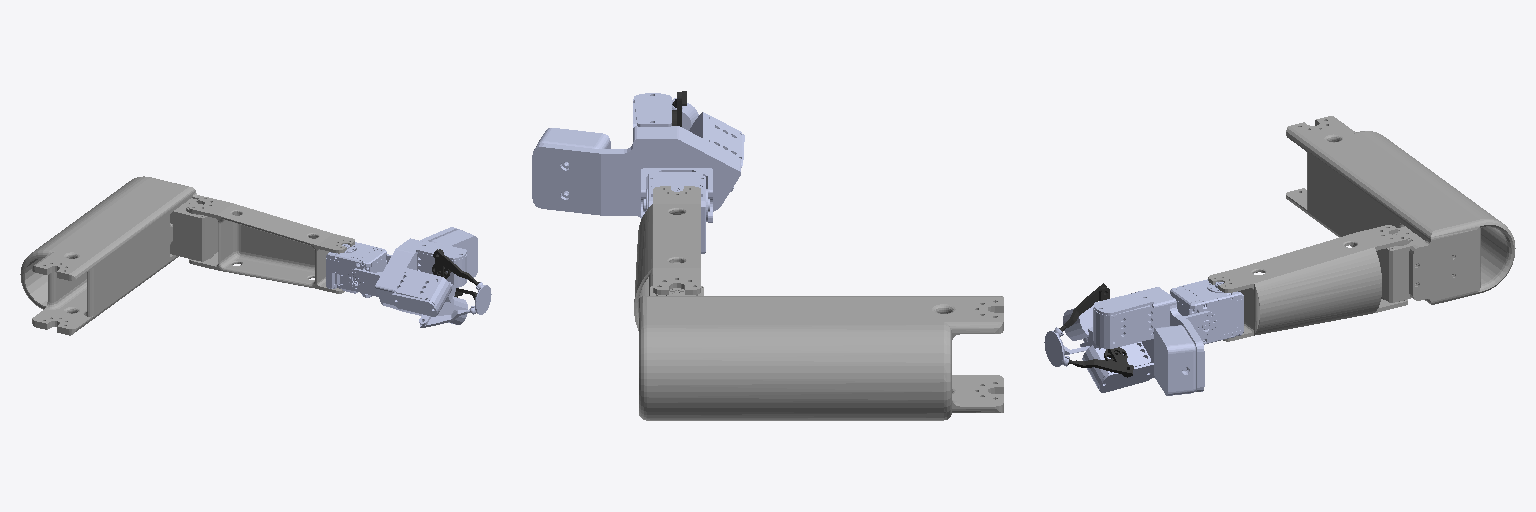
URDF robot description (poll_arm_left):
<?xml version="1.0" encoding="utf-8"?>
<!-- This URDF was automatically created by SolidWorks to URDF Exporter! Originally created by [author] ([email redacted]) 
     Commit Version: 1.6.0-4-g7f85cfe  Build Version: 1.6.7995.38578
     For more information, please see http://wiki.ros.org/sw_urdf_exporter -->
<robot
  name="poll_arm_left">
  <link
    name="base">
    <inertial>
      <origin xyz="0 0 0" rpy="0 0 0"/>
      <mass value=".0001"/>
      <inertia
        ixx="0.0001" ixy="0.0001" ixz="0.0001"
        iyy="0.0001" iyz="0.0001"
        izz="0.0001"/>
    </inertial>
  </link>
  <link
    name="box">
    <inertial>
      <origin
        xyz="-0.0294836466854796 0.00650699178978326 0.044874078657663"
        rpy="0 0 0" />
      <mass
        value="1.25224595398726" />
      <inertia
        ixx="0.00206596064394956"
        ixy="-0.000334896166615364"
        ixz="0.000136948453654299"
        iyy="0.0035115970252851"
        iyz="-4.17254634185765E-05"
        izz="0.00431158338218049" />
    </inertial>
    <visual>
      <origin
        xyz="0 0 0"
        rpy="0 0 0" />
      <geometry>
        <mesh
          filename="package://poll_arm_left/meshes/box.STL" />
      </geometry>
      <material
        name="">
        <color
          rgba="0.792156862745098 0.819607843137255 0.933333333333333 1" />
      </material>
    </visual>
    <collision>
      <origin
        xyz="0 0 0"
        rpy="0 0 0" />
      <geometry>
        <mesh
          filename="package://poll_arm_left/meshes/box.STL" />
      </geometry>
    </collision>
  </link>
  <joint
    name="slider"
    type="prismatic">
    <origin
      xyz="0 0 0"
      rpy="0 0 0" />
    <parent
      link="base" />
    <child
      link="box" />
    <axis
      xyz="0 0 1" />
    <limit
      lower="0"
      upper="2"
      effort="200"
      velocity="0" />
    <dynamics
      damping="0.2"
      friction="0.2" />
  </joint>

  <link
    name="bicep">
    <inertial>
      <origin
        xyz="0.19577236492752 -0.0256170060224436 0.030251757517972"
        rpy="0 0 0" />
      <mass
        value="0.0881583450015477" />
      <inertia
        ixx="4.02190655717306E-05"
        ixy="9.41441514112841E-09"
        ixz="4.66388635592044E-08"
        iyy="2.35490419805005E-05"
        iyz="-9.36030697866667E-08"
        izz="3.32834464790013E-05" />
    </inertial>
    <visual>
      <origin
        xyz="0 0 0"
        rpy="0 0 0" />
      <geometry>
        <mesh
          filename="package://poll_arm_left/meshes/bicep.STL" />
      </geometry>
      <material
        name="">
        <color
          rgba="0.698039215686274 0.698039215686274 0.698039215686274 1" />
      </material>
    </visual>
    <collision>
      <origin
        xyz="0 0 0"
        rpy="0 0 0" />
      <geometry>
        <mesh
          filename="package://poll_arm_left/meshes/bicep.STL" />
      </geometry>
    </collision>
  </link>
  <link
    name="bicep_fixed">  
  </link>
  <joint
    name="shoulder_fixed"
    type="fixed">
    <origin
      xyz="0.10198 0.044401 0.019165"
      rpy="0 0 0.5236" />
    <parent
      link="box" />
    <child
      link="bicep_fixed" />
  </joint>
  <joint
    name="shoulder"
    type="revolute">
    <origin
      xyz="0.10198 0.044401 0.019165"
      rpy="0 0 0.5236" />
    <parent
      link="box" />
    <child
      link="bicep" />
    <axis
      xyz="0 0 1" />
    <limit
      lower="-1.57"
      upper="1.57"
      effort="200"
      velocity="0" />
    <dynamics
      damping="0.2"
      friction="0.2" />
  </joint>
  <link
    name="forearm">
    <inertial>
      <origin
        xyz="0.0765243373190795 0.00763087662935313 0.0278702986201432"
        rpy="0 0 0" />
      <mass
        value="1.58296374201532E-05" />
      <inertia
        ixx="7.67204016217178E-09"
        ixy="-5.22801783357387E-11"
        ixz="2.28428361936281E-12"
        iyy="3.25420777474497E-08"
        iyz="4.95200027150691E-13"
        izz="2.90616522575078E-08" />
    </inertial>
    <visual>
      <origin
        xyz="0 0 0"
        rpy="0 0 0" />
      <geometry>
        <mesh
          filename="package://poll_arm_left/meshes/forearm.STL" />
      </geometry>
      <material
        name="">
        <color
          rgba="0.698039215686274 0.698039215686274 0.698039215686274 1" />
      </material>
    </visual>
    <collision>
      <origin
        xyz="0 0 0"
        rpy="0 0 0" />
      <geometry>
        <mesh
          filename="package://poll_arm_left/meshes/forearm.STL" />
      </geometry>
    </collision>
  </link>
  <joint
    name="elbow"
    type="revolute">
    <origin
      xyz="0.1959 -0.040686 0.0024841"
      rpy="0 0 -1.5708" />
    <parent
      link="bicep" />
    <child
      link="forearm" />
    <axis
      xyz="0 0 1" />
    <limit
      lower="-1.57"
      upper="1.57"
      effort="200"
      velocity="0" />
    <dynamics
      damping="0.2"
      friction="0.2" />
  </joint>
  <link
    name="w1_link">
    <inertial>
      <origin
        xyz="0.011999849295342 0.000549087822445393 0.0223834540031007"
        rpy="0 0 0" />
      <mass
        value="0.0565320862795783" />
      <inertia
        ixx="1.0226625085126E-05"
        ixy="-6.10475234166538E-10"
        ixz="7.97796107526984E-10"
        iyy="1.43894864274769E-05"
        iyz="3.44003507752819E-07"
        izz="1.4389503019841E-05" />
    </inertial>
    <visual>
      <origin
        xyz="0 0 0"
        rpy="0 0 0" />
      <geometry>
        <mesh
          filename="package://poll_arm_left/meshes/w1_link.STL" />
      </geometry>
      <material
        name="">
        <color
          rgba="0.792156862745098 0.819607843137255 0.933333333333333 1" />
      </material>
    </visual>
    <collision>
      <origin
        xyz="0 0 0"
        rpy="0 0 0" />
      <geometry>
        <mesh
          filename="package://poll_arm_left/meshes/w1_link.STL" />
      </geometry>
    </collision>
  </link>
  <joint
    name="w1"
    type="revolute">
    <origin
      xyz="0.15435 0 0.0058612"
      rpy="0 0 0" />
    <parent
      link="forearm" />
    <child
      link="w1_link" />
    <axis
      xyz="0 0 1" />
    <limit
      lower="-1.57"
      upper="1.57"
      effort="200"
      velocity="0" />
    <dynamics
      damping="0.2"
      friction="0.2" />
  </joint>
  <link
    name="w2_link">
    <inertial>
      <origin
        xyz="0.0566451733011975 -0.00141725658574912 0.0284323416048119"
        rpy="0 0 0" />
      <mass
        value="0.153757182920479" />
      <inertia
        ixx="9.61201704567482E-05"
        ixy="-2.53181854057694E-06"
        ixz="1.28235405708061E-05"
        iyy="0.000113585627853035"
        iyz="-2.70973268265226E-06"
        izz="6.51970121574257E-05" />
    </inertial>
    <visual>
      <origin
        xyz="0 0 0"
        rpy="0 0 0" />
      <geometry>
        <mesh
          filename="package://poll_arm_left/meshes/w2_link.STL" />
      </geometry>
      <material
        name="">
        <color
          rgba="0.792156862745098 0.819607843137255 0.933333333333333 1" />
      </material>
    </visual>
    <collision>
      <origin
        xyz="0 0 0"
        rpy="0 0 0" />
      <geometry>
        <mesh
          filename="package://poll_arm_left/meshes/w2_link.STL" />
      </geometry>
    </collision>
  </link>
  <joint
    name="w2"
    type="revolute">
    <origin
      xyz="0.024 -0.0222 0.021834"
      rpy="-1.5708 0 0" />
    <parent
      link="w1_link" />
    <child
      link="w2_link" />
    <axis
      xyz="0 0 1" />
    <limit
      lower="-1.57"
      upper="1.57"
      effort="200"
      velocity="0" />
    <dynamics
      damping="0.2"
      friction="0.2" />
  </joint>
  <link
    name="cam_link">
    <inertial>
      <origin
        xyz="-0.0113814657659481 -3.77656326211451E-08 -8.96828082673773E-05"
        rpy="0 0 0" />
      <mass
        value="0.039484046404376" />
      <inertia
        ixx="1.13008734896739E-05"
        ixy="-1.1840327216836E-12"
        ixz="-1.1184981555834E-08"
        iyy="7.34442345562825E-06"
        iyz="2.14724251253116E-11"
        izz="7.39890475454633E-06" />
    </inertial>
    <visual>
      <origin
        xyz="0 0 0"
        rpy="0 0 0" />
      <geometry>
        <mesh
          filename="package://poll_arm_left/meshes/cam_link.STL" />
      </geometry>
      <material
        name="">
        <color
          rgba="0.792156862745098 0.819607843137255 0.933333333333333 1" />
      </material>
    </visual>
    <collision>
      <origin
        xyz="0 0 0"
        rpy="0 0 0" />
      <geometry>
        <mesh
          filename="package://poll_arm_left/meshes/cam_link.STL" />
      </geometry>
    </collision>
  </link>
  <joint
    name="cam_joint"
    type="fixed">
    <origin
      xyz="0.063863 0 0.083432"
      rpy="0 0.2618 0" />
    <parent
      link="w2_link" />
    <child
      link="cam_link" />
    <axis
      xyz="0 0 0" />
  </joint>
  <link
    name="e1_link">
    <inertial>
      <origin
        xyz="0.00768377159854705 0.00530600599131281 -0.000730992899423188"
        rpy="0 0 0" />
      <mass
        value="0.00225996756513805" />
      <inertia
        ixx="1.30412723697187E-07"
        ixy="9.73218559749733E-08"
        ixz="2.16169394663049E-08"
        iyy="1.966205244536E-07"
        iyz="-1.2986245459416E-08"
        izz="3.15647081687985E-07" />
    </inertial>
    <visual>
      <origin
        xyz="0 0 0"
        rpy="0 0 0" />
      <geometry>
        <mesh
          filename="package://poll_arm_left/meshes/e1_link.STL" />
      </geometry>
      <material
        name="">
        <color
          rgba="0.792156862745098 0.819607843137255 0.933333333333333 1" />
      </material>
    </visual>
    <collision>
      <origin
        xyz="0 0 0"
        rpy="0 0 0" />
      <geometry>
        <mesh
          filename="package://poll_arm_left/meshes/e1_link.STL" />
      </geometry>
    </collision>
  </link>
  <joint
    name="e1"
    type="revolute">
    <origin
      xyz="0.077 0.011263 0.0070007"
      rpy="-1.0472 0 0" />
    <parent
      link="w2_link" />
    <child
      link="e1_link" />
    <axis
      xyz="0 0 1" />
    <limit
      lower="-1.57"
      upper="1.57"
      effort="200"
      velocity="0" />
    <dynamics
      damping="0.2"
      friction="0.2" />
  </joint>
  <link
    name="e2_link">
    <inertial>
      <origin
        xyz="0.00768377159939804 0.00530600599028475 -0.000730992897713945"
        rpy="0 0 0" />
      <mass
        value="0.00225996756505407" />
      <inertia
        ixx="1.30412723709295E-07"
        ixy="9.73218559904026E-08"
        ixz="2.16169394327849E-08"
        iyy="1.96620524444531E-07"
        iyz="-1.2986245443103E-08"
        izz="3.15647081713528E-07" />
    </inertial>
    <visual>
      <origin
        xyz="0 0 0"
        rpy="0 0 0" />
      <geometry>
        <mesh
          filename="package://poll_arm_left/meshes/e2_link.STL" />
      </geometry>
      <material
        name="">
        <color
          rgba="0.250980392156863 0.250980392156863 0.250980392156863 1" />
      </material>
    </visual>
    <collision>
      <origin
        xyz="0 0 0"
        rpy="0 0 0" />
      <geometry>
        <mesh
          filename="package://poll_arm_left/meshes/e2_link.STL" />
      </geometry>
    </collision>
  </link>
  <joint
    name="e2"
    type="revolute">
    <origin
      xyz="0.077 0.0074446 0.039404"
      rpy="1.0472 0 0" />
    <parent
      link="w2_link" />
    <child
      link="e2_link" />
    <axis
      xyz="0 0 1" />
    <limit
      lower="-1.57"
      upper="1.57"
      effort="200"
      velocity="0" />
    <dynamics
      damping="0.2"
      friction="0.2" />
  </joint>
  <link
    name="e3_link">
    <inertial>
      <origin
        xyz="0.00768377159880085 0.00530600599161343 -0.000730992902174321"
        rpy="0 0 0" />
      <mass
        value="0.00225996756527347" />
      <inertia
        ixx="1.30412723718879E-07"
        ixy="9.73218559573204E-08"
        ixz="2.16169395180174E-08"
        iyy="1.96620524429933E-07"
        iyz="-1.2986245490849E-08"
        izz="3.15647081641822E-07" />
    </inertial>
    <visual>
      <origin
        xyz="0 0 0"
        rpy="0 0 0" />
      <geometry>
        <mesh
          filename="package://poll_arm_left/meshes/e3_link.STL" />
      </geometry>
      <material
        name="">
        <color
          rgba="0.250980392156863 0.250980392156863 0.250980392156863 1" />
      </material>
    </visual>
    <collision>
      <origin
        xyz="0 0 0"
        rpy="0 0 0" />
      <geometry>
        <mesh
          filename="package://poll_arm_left/meshes/e3_link.STL" />
      </geometry>
    </collision>
  </link>
  <joint
    name="e3"
    type="revolute">
    <origin
      xyz="0.077 -0.018708 0.019895"
      rpy="3.1416 0 0" />
    <parent
      link="w2_link" />
    <child
      link="e3_link" />
    <axis
      xyz="0 0 1" />
    <limit
      lower="-1.57"
      upper="1.57"
      effort="200"
      velocity="0" />
    <dynamics
      damping="0.2"
      friction="0.2" />
  </joint>
  <link
    name="end_link">
    <inertial>
      <origin
        xyz="-0.00224236893916069 3.51872006532084E-08 -3.59307918973428E-08"
        rpy="0 0 0" />
      <mass
        value="0.00244973338644465" />
      <inertia
        ixx="2.1728168358708E-07"
        ixy="-1.95917302130553E-13"
        ixz="3.07605742817941E-13"
        iyy="1.14231479742372E-07"
        iyz="9.90134628383345E-13"
        izz="1.14231411420646E-07" />
    </inertial>
    <visual>
      <origin
        xyz="0 0 0"
        rpy="0 0 0" />
      <geometry>
        <mesh
          filename="package://poll_arm_left/meshes/end_link.STL" />
      </geometry>
      <material
        name="">
        <color
          rgba="0.792156862745098 0.819607843137255 0.933333333333333 1" />
      </material>
    </visual>
    <collision>
      <origin
        xyz="0 0 0"
        rpy="0 0 0" />
      <geometry>
        <mesh
          filename="package://poll_arm_left/meshes/end_link.STL" />
      </geometry>
    </collision>
  </link>
  <joint
    name="end_joint"
    type="fixed">
    <origin
      xyz="0.12293 0 0.0221"
      rpy="1.5708 0 0" />
    <parent
      link="w2_link" />
    <child
      link="end_link" />
    <axis
      xyz="0 0 0" />
  </joint>
</robot>

--- Facts derived from the render (not from the file) ---
The picture shows the robot from 3 angles, left to right: view 1: azimuth 30°, elevation 25°; view 2: azimuth 150°, elevation 25°; view 3: azimuth 270°, elevation 25°; orthographic projection.
Robot: poll_arm_left — 12 links, 11 joints (7 revolute, 1 prismatic, 3 fixed); root link base; default pose: every joint at zero.
Visible links, largest first — view 1: bicep, forearm, w2_link, w1_link, cam_link, e3_link; view 2: bicep, w2_link, forearm, w1_link, cam_link; view 3: bicep, forearm, w2_link, w1_link, cam_link, e2_link, end_link, e3_link.
Boxes of the visible links, x1,y1,x2,y2 form: bicep: (20, 176, 217, 335); forearm: (189, 197, 354, 293); w2_link: (353, 227, 467, 324); w1_link: (326, 242, 386, 297); cam_link: (431, 229, 477, 279); e3_link: (432, 249, 479, 285); bicep: (639, 286, 1003, 420); w2_link: (532, 93, 744, 222); forearm: (634, 186, 700, 330); w1_link: (643, 172, 709, 253); cam_link: (536, 128, 610, 193); bicep: (1286, 116, 1515, 304); forearm: (1208, 225, 1407, 341); w2_link: (1063, 287, 1210, 392); w1_link: (1170, 279, 1243, 344); cam_link: (1154, 325, 1195, 395); e2_link: (1067, 347, 1133, 377); end_link: (1044, 327, 1069, 366); e3_link: (1059, 283, 1109, 333).
Bounding box of the posed robot: 0.3984 × 0.3598 × 0.0815 m (x, y, z).
Meshes: 10 distinct files referenced, 9 mesh visuals loaded (9 binary STL); not drawn: 1 (reference not matched to a file when rendering).